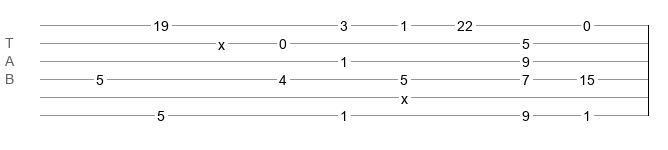0: (279, 36, 287, 46), (583, 18, 591, 28)
1: (340, 54, 348, 64), (340, 108, 348, 118), (400, 18, 408, 28), (583, 108, 591, 118)
15: (579, 72, 595, 82)
19: (153, 18, 169, 28)
22: (457, 18, 473, 28)
3: (340, 18, 348, 28)
4: (279, 72, 287, 82)
5: (96, 72, 104, 82), (157, 108, 165, 118), (400, 72, 408, 82), (522, 36, 530, 46)
7: (522, 72, 530, 82)
9: (522, 108, 530, 118), (522, 54, 530, 64)
x: (218, 37, 225, 45), (401, 91, 408, 99)
